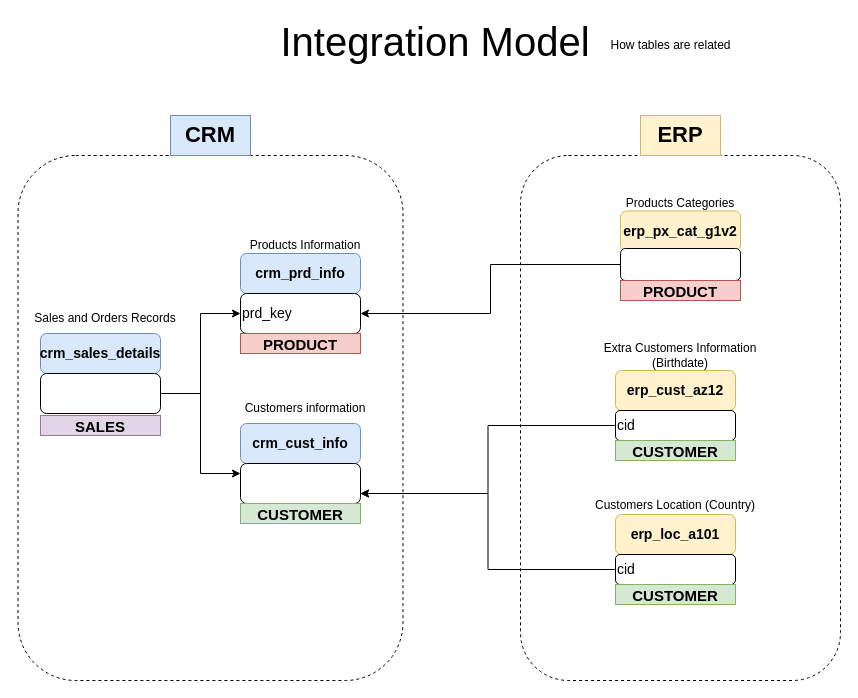
This 858x698 diagram has some shape labels left out. The shapes that lost their labels are listed below. From the top down, each one's centre as x and y in pixels, then its label:
At point 680,264: "id".
At point 100,393: "prd_key cst_id".
At point 300,483: "cst_id cst_key".
